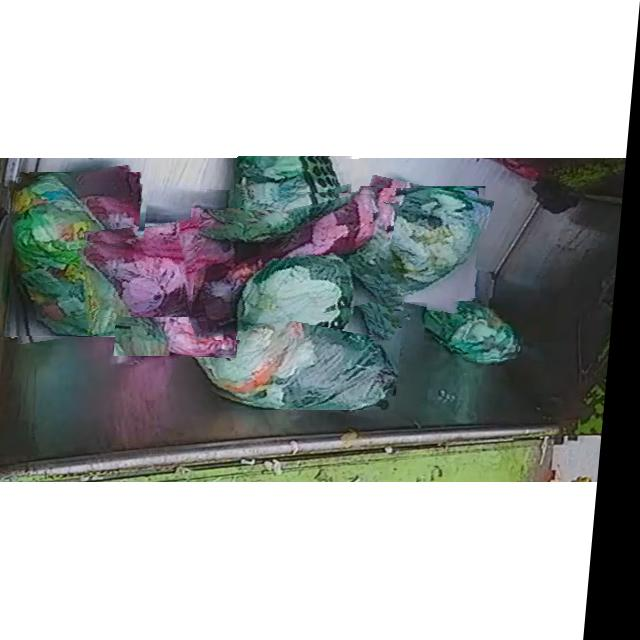general_trashbag: (190, 291, 404, 410), (17, 178, 143, 335), (361, 189, 491, 297), (237, 157, 357, 266), (431, 299, 525, 360)
other_trashbag: (198, 192, 389, 339), (85, 242, 214, 316), (124, 280, 241, 354)
